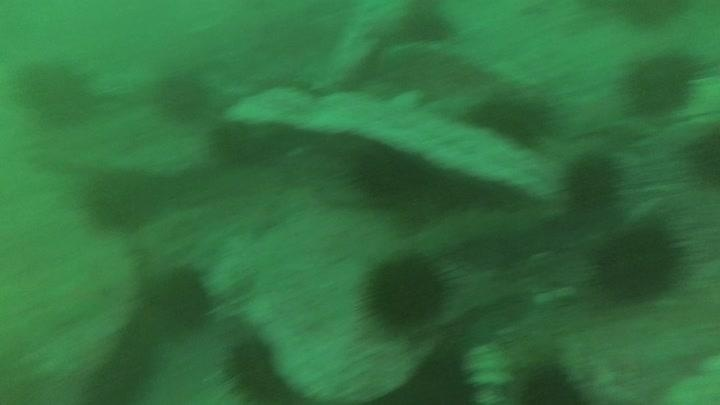echinus: (588, 216, 689, 308), (359, 248, 454, 334), (619, 47, 704, 118), (14, 56, 97, 126), (82, 168, 162, 233), (467, 89, 555, 148), (348, 145, 426, 207), (220, 333, 289, 403), (148, 263, 215, 334), (559, 150, 624, 213), (509, 357, 589, 404), (154, 69, 212, 123), (683, 123, 720, 191)
